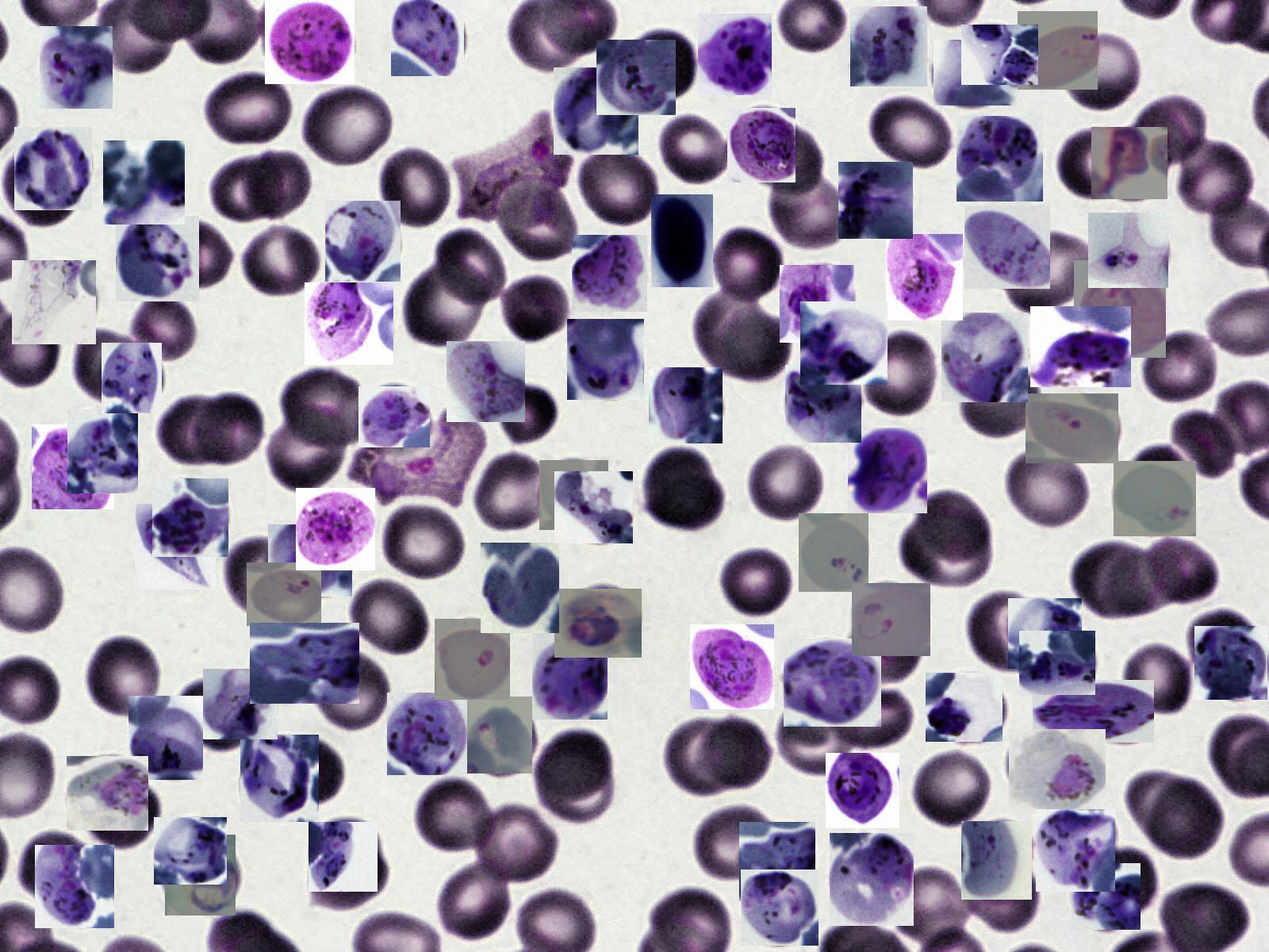Infected: (453, 111, 569, 230), (352, 409, 485, 507), (1074, 260, 1166, 358), (250, 623, 359, 704), (784, 639, 881, 727), (1009, 729, 1106, 814), (1030, 306, 1131, 387), (941, 313, 1028, 403), (830, 833, 914, 926), (1033, 680, 1154, 743), (265, 0, 355, 84), (957, 116, 1043, 202), (554, 67, 638, 155), (800, 301, 888, 385), (305, 282, 393, 365), (964, 205, 1050, 289), (690, 624, 774, 709), (532, 627, 608, 720), (12, 260, 96, 344), (116, 216, 199, 301), (481, 543, 559, 633), (103, 140, 185, 225), (32, 424, 114, 509), (135, 504, 216, 589), (240, 735, 319, 822), (387, 693, 468, 776), (848, 428, 927, 513), (886, 235, 963, 321), (1036, 809, 1115, 892), (35, 845, 114, 928), (296, 488, 375, 570), (14, 127, 92, 210), (1026, 393, 1118, 463), (1018, 11, 1098, 90), (447, 341, 525, 422), (128, 696, 203, 780), (567, 319, 644, 400), (850, 6, 927, 86), (325, 201, 401, 282), (1114, 461, 1196, 536), (268, 524, 352, 597), (435, 619, 510, 700), (67, 756, 148, 831), (554, 589, 642, 658), (698, 13, 772, 95), (741, 869, 819, 946), (152, 478, 228, 557), (739, 822, 815, 901), (1088, 213, 1168, 288), (597, 40, 677, 115), (40, 27, 113, 109), (785, 365, 861, 443), (67, 410, 138, 493), (838, 162, 913, 239), (572, 235, 647, 312), (780, 265, 854, 343), (651, 195, 713, 288), (165, 835, 236, 916), (852, 584, 930, 657), (554, 471, 633, 543), (934, 40, 1019, 106), (961, 821, 1032, 900), (650, 367, 723, 443), (391, 0, 464, 76), (826, 753, 899, 828), (1091, 127, 1167, 199), (799, 513, 868, 592), (1194, 626, 1267, 700), (926, 673, 1003, 742), (1008, 598, 1082, 669), (203, 670, 278, 740), (727, 108, 796, 182), (467, 697, 532, 774), (155, 817, 227, 885), (1019, 631, 1095, 695), (539, 460, 608, 530), (309, 822, 378, 892), (247, 562, 321, 626), (1072, 863, 1141, 930), (961, 25, 1038, 85), (358, 386, 430, 447), (102, 343, 162, 413)
Uninfected: (299, 81, 395, 171), (763, 157, 855, 248), (995, 230, 1090, 316), (280, 365, 374, 451), (466, 800, 558, 887), (301, 643, 389, 733), (1114, 92, 1214, 170), (691, 804, 787, 885), (857, 328, 940, 420), (406, 257, 491, 346), (898, 508, 991, 589), (1005, 444, 1090, 531), (471, 451, 558, 536), (692, 286, 771, 377), (863, 94, 957, 170), (427, 228, 512, 312), (890, 867, 975, 951), (811, 681, 911, 752), (205, 68, 293, 148), (1175, 137, 1258, 221), (577, 144, 659, 229), (86, 634, 165, 722), (1068, 542, 1158, 619), (381, 502, 465, 584), (1144, 778, 1226, 862), (436, 857, 515, 944), (663, 720, 752, 797), (961, 353, 1042, 437), (416, 775, 497, 858), (911, 747, 991, 831), (375, 144, 454, 229), (347, 577, 429, 658), (263, 413, 351, 488), (496, 182, 577, 263), (225, 536, 301, 622), (1059, 34, 1141, 113), (241, 222, 321, 301), (533, 745, 615, 822), (772, 699, 857, 773), (1115, 641, 1194, 720), (0, 148, 79, 227), (746, 443, 824, 522), (1141, 328, 1220, 406), (15, 830, 94, 908), (839, 615, 922, 689), (70, 323, 144, 406), (708, 225, 784, 305), (739, 124, 822, 197), (303, 839, 392, 907), (966, 593, 1044, 670), (156, 391, 236, 466), (172, 681, 254, 754), (535, 727, 616, 800), (695, 714, 771, 791), (658, 110, 733, 188), (914, 488, 995, 560), (719, 543, 793, 621), (1126, 771, 1202, 846), (496, 268, 573, 341), (719, 309, 796, 382), (82, 780, 161, 851), (973, 850, 1039, 934), (263, 740, 347, 804), (162, 217, 236, 289), (646, 447, 716, 522), (1169, 402, 1238, 477), (1141, 538, 1217, 605), (490, 377, 565, 444), (1108, 550, 1189, 612), (194, 390, 261, 464), (626, 29, 695, 100), (209, 156, 282, 223), (647, 471, 727, 530), (1033, 762, 1088, 847), (1190, 606, 1256, 676), (1057, 129, 1128, 194), (131, 294, 197, 363), (1090, 847, 1158, 912), (1125, 443, 1195, 506), (247, 147, 310, 214)
